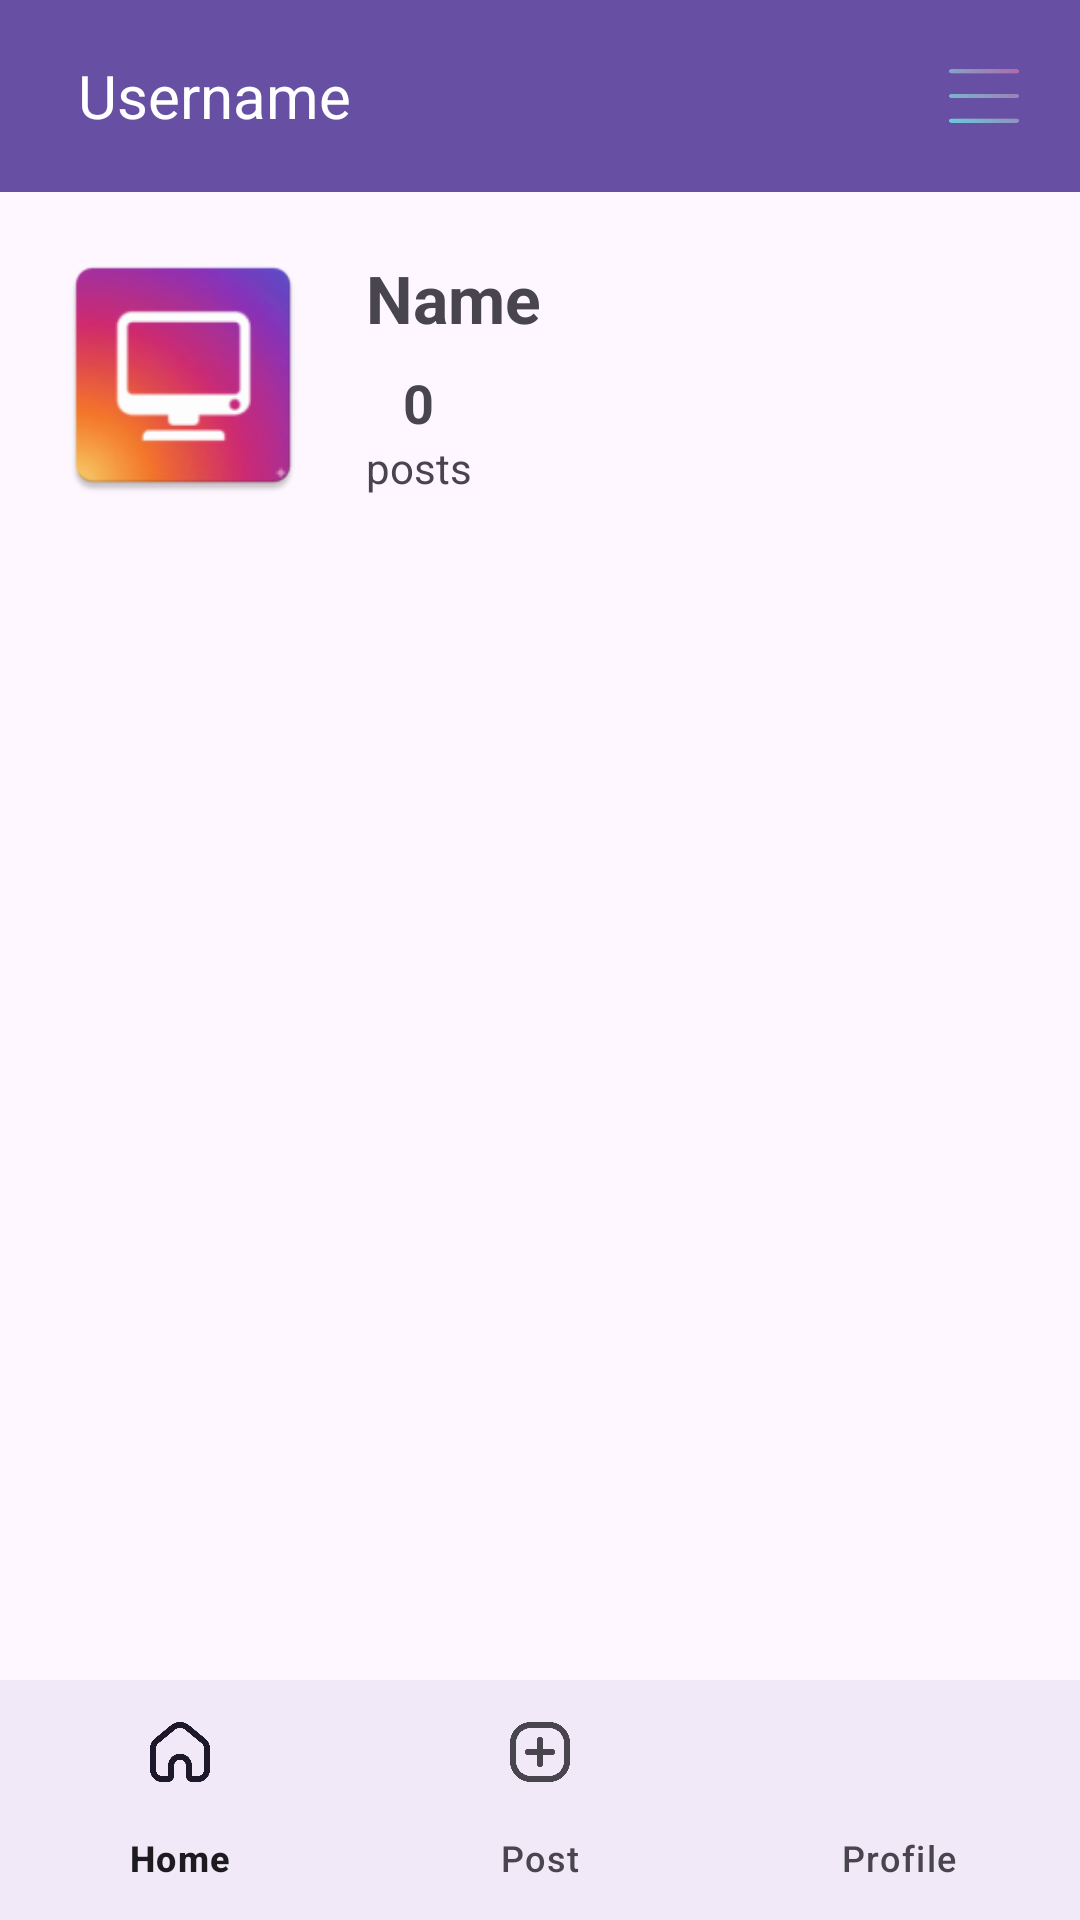

Where to tap for icons on this 1080px x 1920px app screen, as point (x, y):
lines: point (984, 96)
